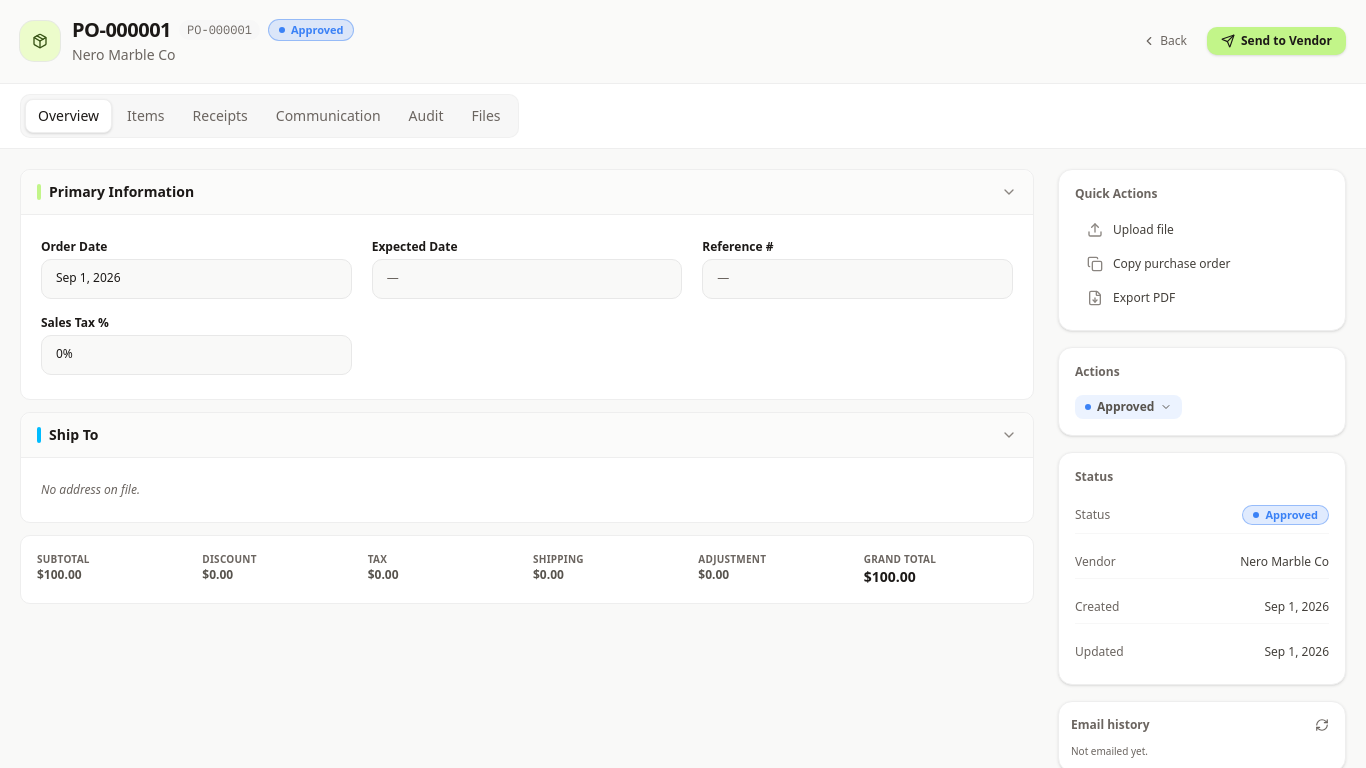
Test case: PurchaseOrderDetailPage — header actions and the admin-only status dropdown › gives a super admin the status dropdown, without the moves that are header buttons
Click the button "Approved" at (1129, 407), box x1=1075 y1=395 x2=1182 y2=419
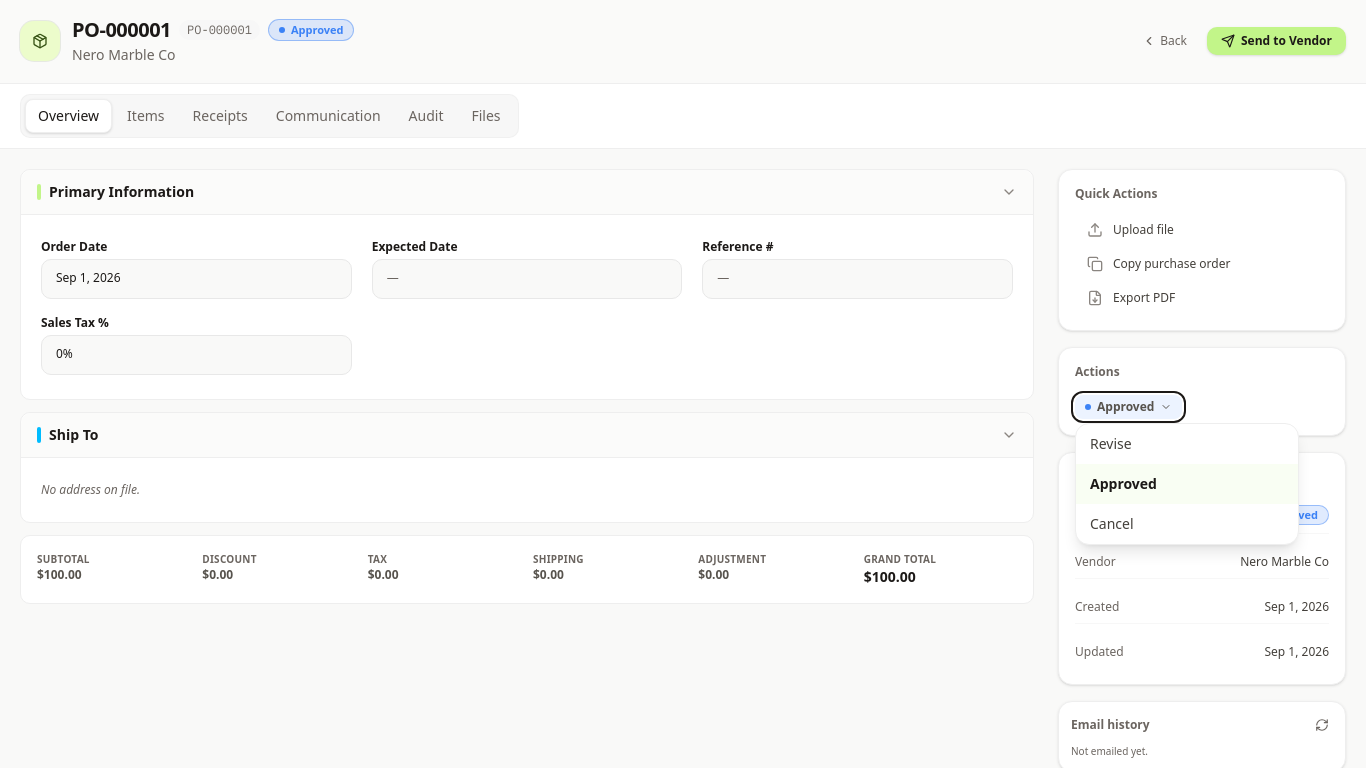
Expected: the option "Revise" is shown, x1=1076 y1=424 x2=1298 y2=464
Expected: the option "Cancel" is shown, x1=1076 y1=504 x2=1298 y2=544
